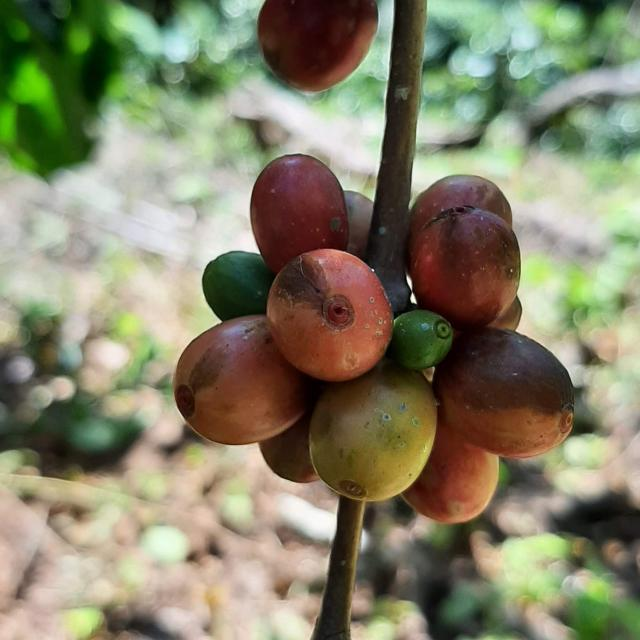green: (202, 251, 275, 321), (387, 310, 454, 371)
red: (433, 327, 575, 458), (410, 206, 521, 330), (250, 153, 349, 273), (258, 0, 378, 91), (407, 174, 513, 268)
yellow: (173, 315, 315, 445), (310, 359, 438, 502), (267, 249, 393, 382), (403, 422, 500, 525), (258, 410, 319, 484), (344, 191, 374, 259)
